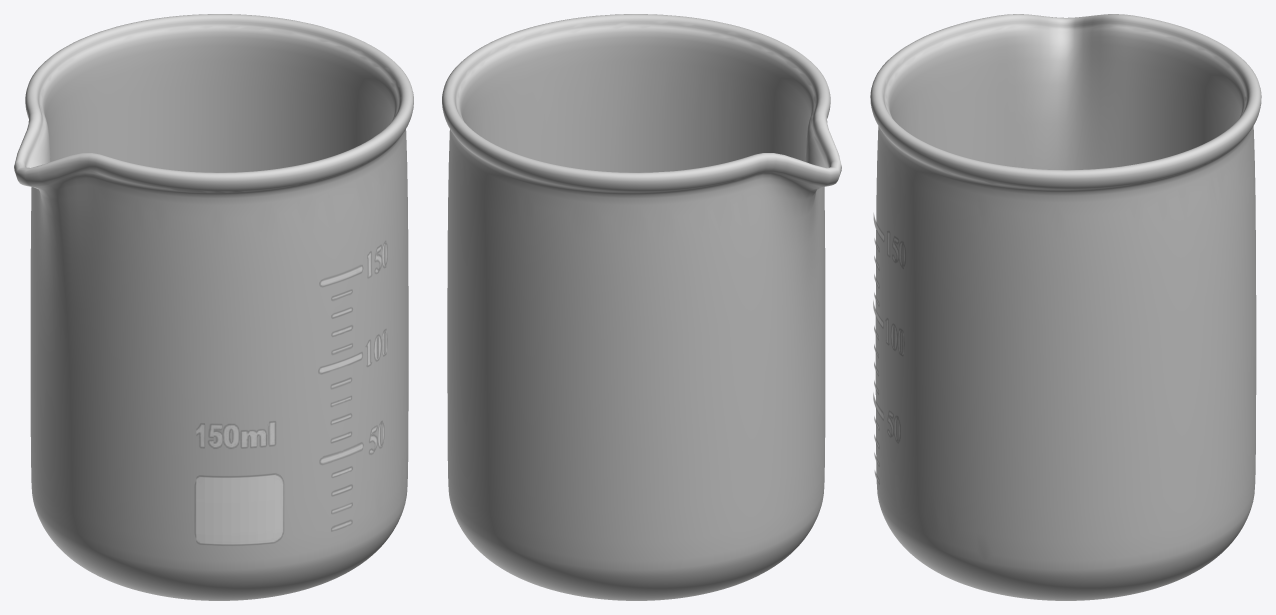
The model's file is photosynthesis-beaker.glb.
3 views of the same model, side by side, from view 1: azimuth 30°, elevation 25°; view 2: azimuth 150°, elevation 25°; view 3: azimuth 270°, elevation 25° (orthographic).
Parts seen in each view (by area): view 1: Object_4, Object_6; view 2: Object_4; view 3: Object_4, Object_6.
Part boxes in pixels (left/top/right/bottom): Object_4: left=14, top=14, right=413, bottom=600; Object_6: left=195, top=241, right=387, bottom=545; Object_4: left=442, top=14, right=841, bottom=600; Object_4: left=870, top=14, right=1261, bottom=600; Object_6: left=873, top=213, right=905, bottom=484.
Bounding box in the file's own units: 7.25 × 8.4 × 6.56.
2 materials, 1 textured.
